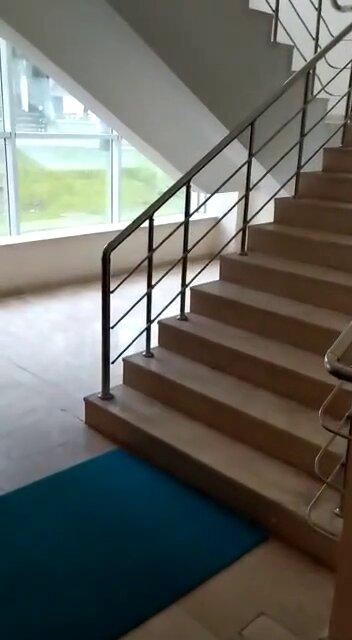Bench: (78, 53, 352, 584)
